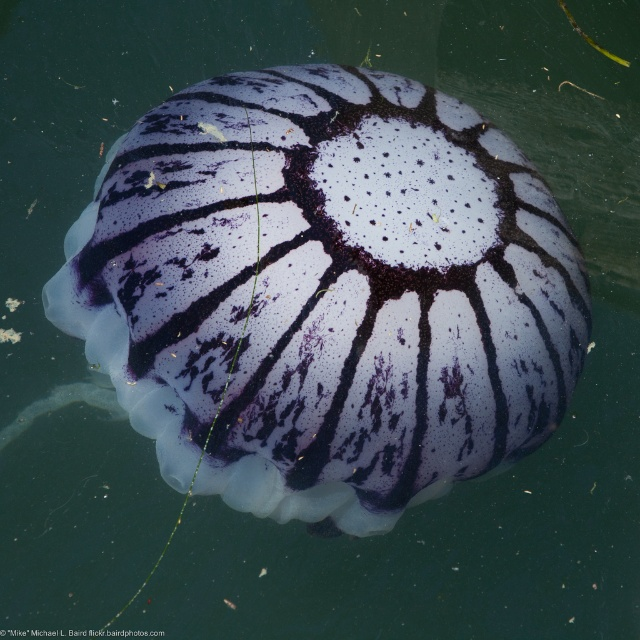Jellyfish: (0, 62, 594, 538)
